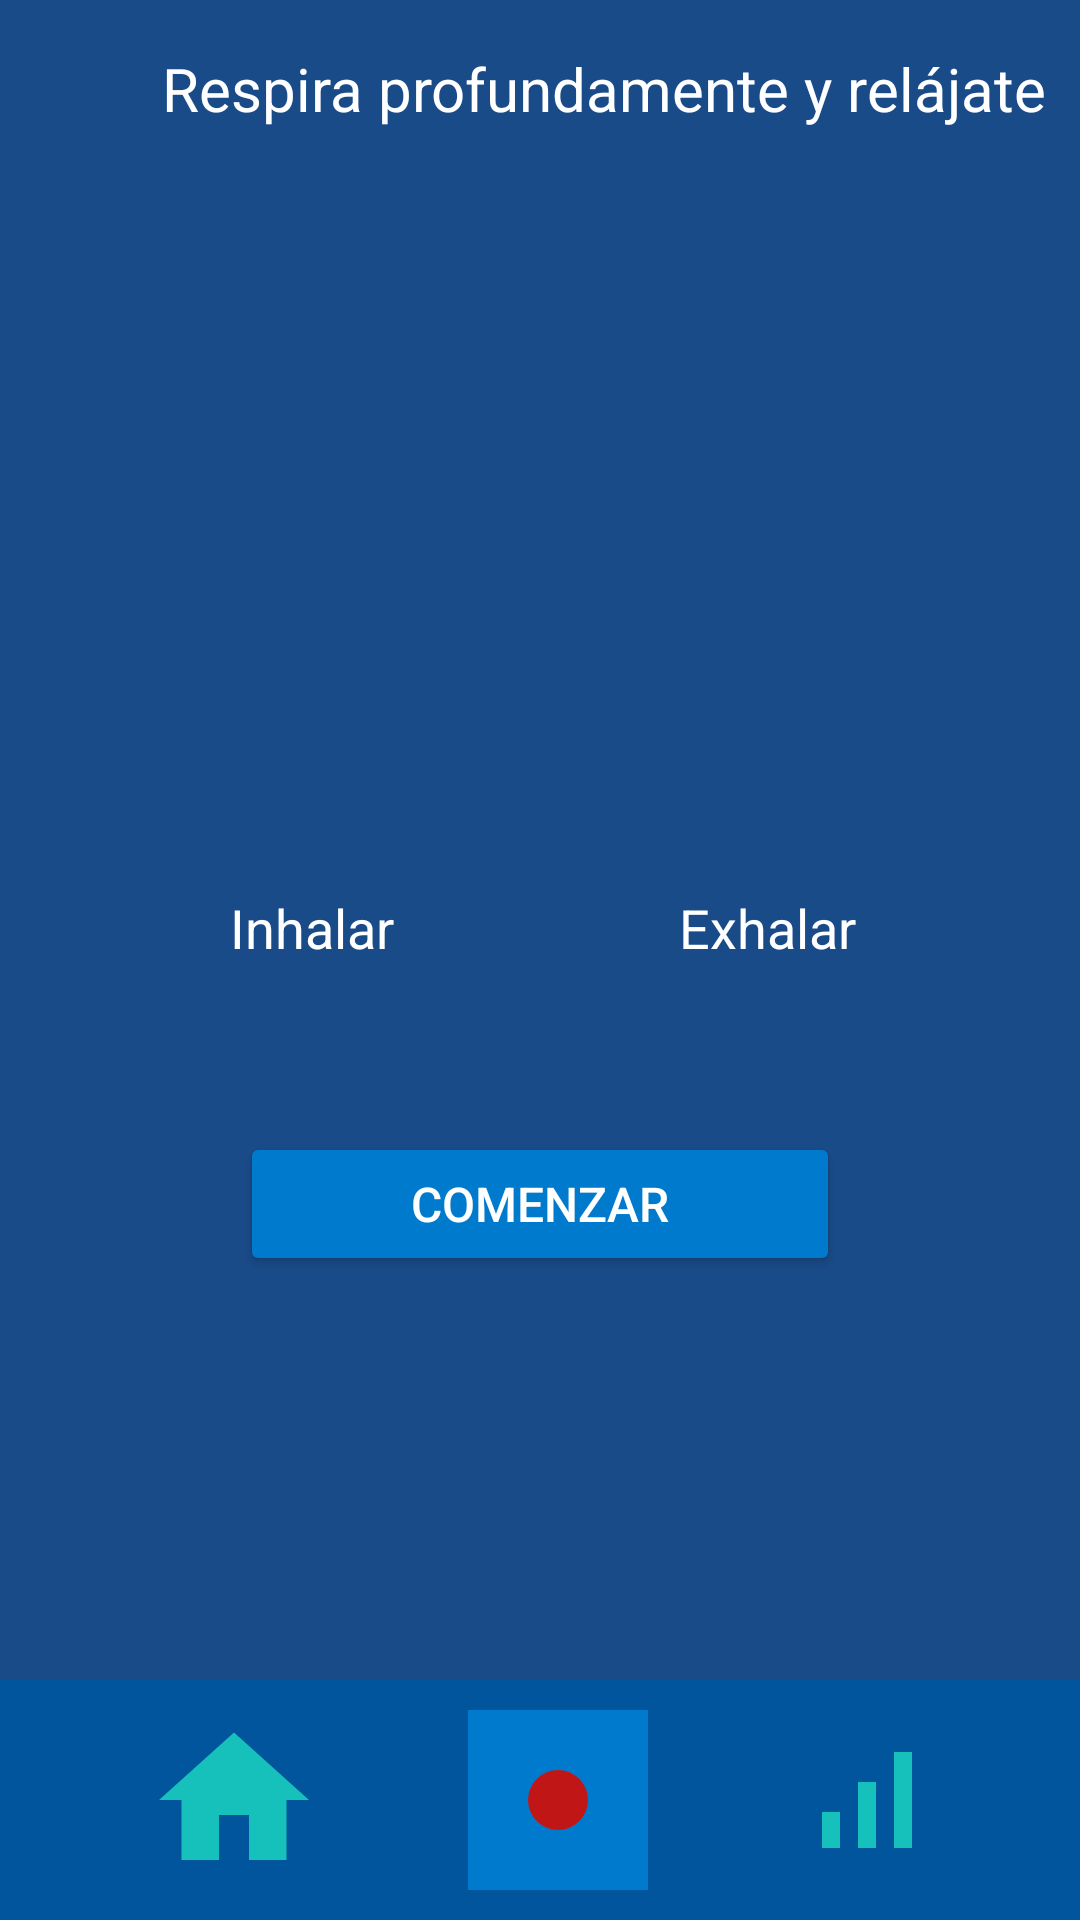

Icons on this 1080 × 1920 Android screen, each with its box as rect(x1, y1, x2, y2):
Estadísticas: rect(822, 1752, 912, 1848)
Inicio: rect(159, 1733, 309, 1860)
